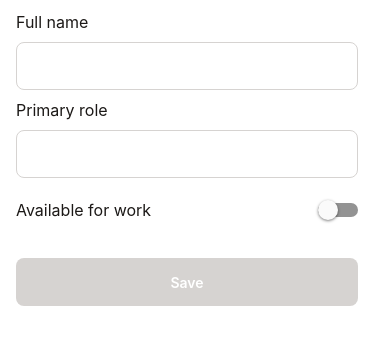
it: proof-of-concept screens › enables Save once a name is entered
In the field labelled "Full name": x=187, y=66 [16,42,358,90], type "Ada Lovelace"
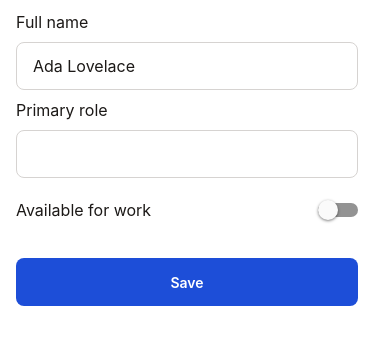
Click the button "Save": x=187, y=282 [16,258,358,306]
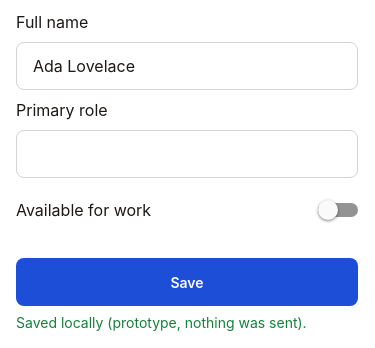
Expected: the message reads "Saved locally (prototype, nothing was sent).", [16,314,307,331]
